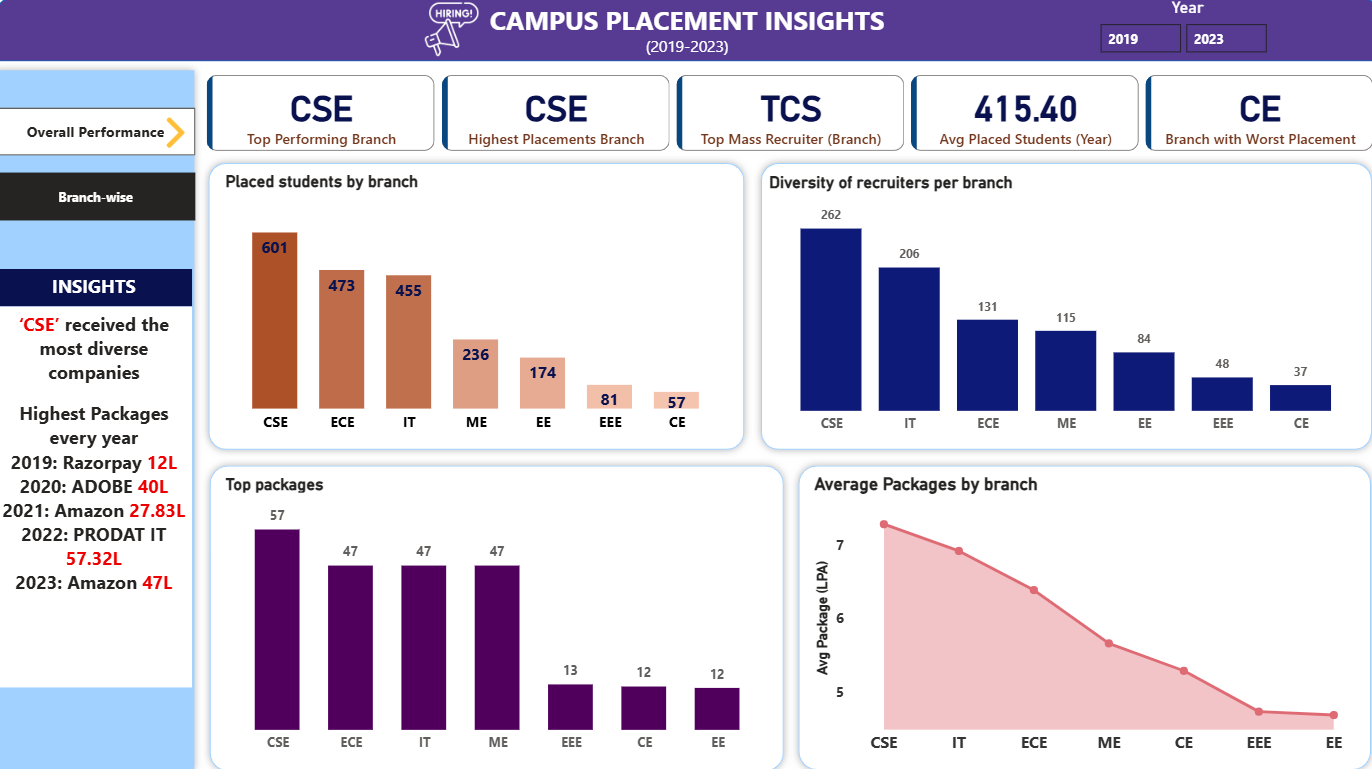

The page's visual inventory and layout, read from the dashboard file:
{"tool":"powerbi","page":{"name":"Branch-wise","canvas":[1500,820],"ordinal":1},"visuals":[{"type":"cardVisual","fields":{"Data":["placement student_placements.Top Performing Branch","placement student_placements.Branch with Highest Placements","placement student_placements.Top Mass Recruiter (Branch)","placement student_placements.Avg Placed Students (Year)","placement company_summary.Branch with Worst Placement"]},"box":[251.4,83.2,1208.7,88.4],"z":0},{"type":"shape","box":[40,9.3,1420,65.3],"z":1000},{"type":"textbox","box":[40,9.3,1420,65.3],"z":2000},{"type":"textbox","box":[40,42.7,1420,32],"z":3000},{"type":"image","box":[472,9.3,70.7,65.3],"z":4000},{"type":"shape","box":[250,171.3,566,310.4],"z":5000},{"type":"clusteredColumnChart","title":"Placed students by branch","fields":{"Category":["placement student_placements.placement.students.branch"],"Y":["placement student_placements.Placed Students"]},"box":[270.6,187,525.6,277.7],"z":6000},{"type":"shape","box":[817.4,171.3,643.3,310.4],"z":7000},{"type":"columnChart","title":"Diversity of recruiters per branch","fields":{"Category":["placement student_placements.placement.students.branch"],"Y":["placement company_summary.Recruiter Count (Branch)"]},"box":[828.7,188.2,620.8,276.7],"z":8000},{"type":"shape","box":[251.4,481.7,605.3,330.1],"z":9000},{"type":"columnChart","title":"Top packages","fields":{"Category":["placement student_placements.placement.students.branch"],"Y":["placement company_summary.CTC Value"]},"box":[271.1,498.6,570.2,294.9],"z":10000},{"type":"shape","box":[856.7,481.7,603.9,328.7],"z":11000},{"type":"lineChart","title":"Average Packages by branch","fields":{"Category":["placement students.branch"],"Y":["placement company_summary.Avg Package (LPA)"]},"box":[875,498.6,574.4,297.8],"z":12000},{"type":"shape","box":[30.8,75.7,220.8,734.3],"z":13000},{"type":"textbox","box":[39.8,287.5,201.5,38.5],"z":14000},{"type":"textbox","box":[39.8,326.1,201.5,391.5],"z":15000},{"type":"slicer","title":"  Year","fields":{"Values":["placement company_summary.year"]},"box":[1161.7,9,204.1,66.8],"z":16000},{"type":"pageNavigator","box":[39.7,188.4,205.4,49.6],"z":17000},{"type":"pageNavigator","box":[39.7,121.8,205.4,49.6],"z":18000},{"type":"image","box":[204,127.5,41.1,41.1],"z":19000}]}

Visuals, with their boxes in screenshot pixels (x1, y1, x2, y2), scaled from the page's 1500x820 canvas onto the 1372x769 screenshot:
cardVisual - placement student_placements.Top Performing Branch x placement student_placements.Branch with Highest Placements: Rect(230, 78, 1336, 161)
shape: Rect(37, 9, 1335, 70)
textbox: Rect(37, 9, 1335, 70)
textbox: Rect(37, 40, 1335, 70)
image: Rect(432, 9, 496, 70)
shape: Rect(229, 161, 746, 452)
"Placed students by branch" clusteredColumnChart: Rect(248, 175, 728, 436)
shape: Rect(748, 161, 1336, 452)
"Diversity of recruiters per branch" columnChart: Rect(758, 176, 1326, 436)
shape: Rect(230, 452, 784, 761)
"Top packages" columnChart: Rect(248, 468, 770, 744)
shape: Rect(784, 452, 1336, 760)
"Average Packages by branch" lineChart: Rect(800, 468, 1326, 747)
shape: Rect(28, 71, 230, 760)
textbox: Rect(36, 270, 221, 306)
textbox: Rect(36, 306, 221, 673)
"  Year" slicer: Rect(1063, 8, 1249, 71)
pageNavigator: Rect(36, 177, 224, 223)
pageNavigator: Rect(36, 114, 224, 161)
image: Rect(187, 120, 224, 158)
